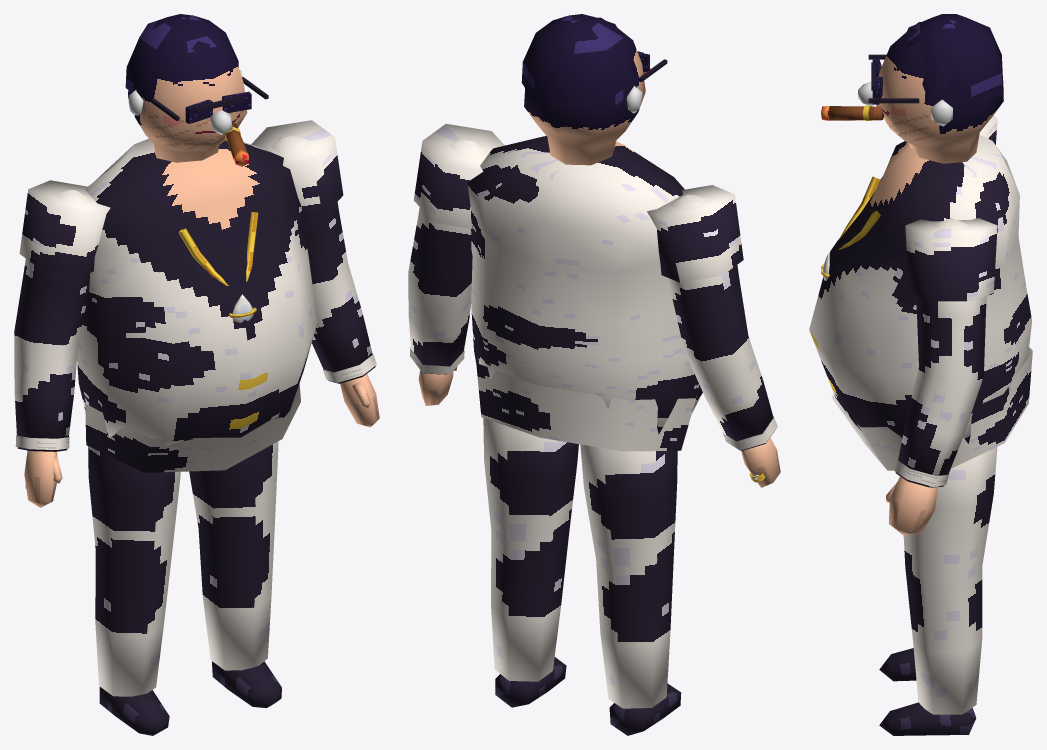
File: Big Dairy.fbx
3 renders of one model, left to right at view 1: azimuth 30°, elevation 25°; view 2: azimuth 150°, elevation 25°; view 3: azimuth 270°, elevation 25°, orthographic.
Parts seen in each view (by area): view 1: Big Dairy torso, Big Dairy leg R.001, Big Dairy leg L.001, Big Dairy arm R.001, Big Dairy head, Big Dairy arm L.001, Big Dairy jacket hem, Big Dairy suit shoulder R, Big Dairy suit shoulder L, Big Dairy slick hair, Big Dairy shoe R, Big Dairy shoe L (+5 smaller); view 2: Big Dairy torso, Big Dairy leg R.001, Big Dairy leg L.001, Big Dairy arm R.001, Big Dairy jacket hem, Big Dairy arm L.001, Big Dairy slick hair, Big Dairy suit shoulder R, Big Dairy head, Big Dairy suit shoulder L, Big Dairy shoe R, Big Dairy shoe L (+2 smaller); view 3: Big Dairy torso, Big Dairy leg L.001, Big Dairy arm L.001, Big Dairy head, Big Dairy suit shoulder L, Big Dairy slick hair, Big Dairy jacket hem, Big Dairy shoe L, Big Dairy hand L, Big Dairy shoe R, Big Dairy gold chain, Big Dairy cigar.001 (+2 smaller).
Part boxes in pixels (bbox=[...]): Big Dairy torso: bbox=[77, 138, 317, 445]; Big Dairy leg R.001: bbox=[88, 446, 180, 696]; Big Dairy leg L.001: bbox=[189, 441, 278, 670]; Big Dairy arm R.001: bbox=[14, 190, 91, 451]; Big Dairy head: bbox=[128, 37, 247, 162]; Big Dairy arm L.001: bbox=[271, 134, 375, 383]; Big Dairy jacket hem: bbox=[84, 383, 300, 472]; Big Dairy suit shoulder R: bbox=[19, 180, 110, 276]; Big Dairy suit shoulder L: bbox=[251, 120, 343, 220]; Big Dairy slick hair: bbox=[125, 14, 238, 93]; Big Dairy shoe R: bbox=[99, 687, 169, 735]; Big Dairy shoe L: bbox=[212, 661, 281, 708]; Big Dairy torso: bbox=[467, 136, 702, 434]; Big Dairy leg R.001: bbox=[580, 444, 677, 708]; Big Dairy leg L.001: bbox=[483, 418, 578, 681]; Big Dairy arm R.001: bbox=[668, 194, 776, 450]; Big Dairy jacket hem: bbox=[476, 357, 696, 451]; Big Dairy arm L.001: bbox=[408, 138, 487, 374]; Big Dairy slick hair: bbox=[521, 14, 637, 110]; Big Dairy suit shoulder R: bbox=[647, 185, 743, 282]; Big Dairy head: bbox=[524, 17, 645, 165]; Big Dairy suit shoulder L: bbox=[413, 123, 504, 228]; Big Dairy shoe R: bbox=[609, 683, 681, 735]; Big Dairy shoe L: bbox=[495, 657, 566, 707]; Big Dairy torso: bbox=[809, 135, 1031, 443]; Big Dairy leg L.001: bbox=[903, 447, 997, 714]; Big Dairy arm L.001: bbox=[895, 218, 986, 487]; Big Dairy head: bbox=[876, 22, 1003, 163]; Big Dairy suit shoulder L: bbox=[905, 218, 997, 301]; Big Dairy slick hair: bbox=[906, 14, 1002, 107]; Big Dairy jacket hem: bbox=[831, 347, 1032, 470]; Big Dairy shoe L: bbox=[879, 702, 976, 735]; Big Dairy hand L: bbox=[889, 476, 937, 535]; Big Dairy shoe R: bbox=[879, 648, 916, 681]; Big Dairy gold chain: bbox=[838, 176, 880, 249]; Big Dairy cigar.001: bbox=[828, 106, 884, 120].
Bounding box in the file's own units: 1.06 × 1.97 × 0.5812.
22 materials, 19 textured.
